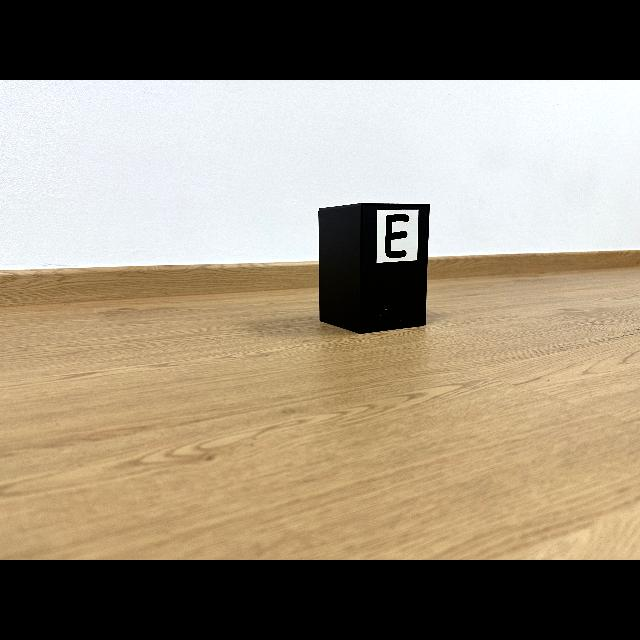E: (385, 214, 410, 258)
